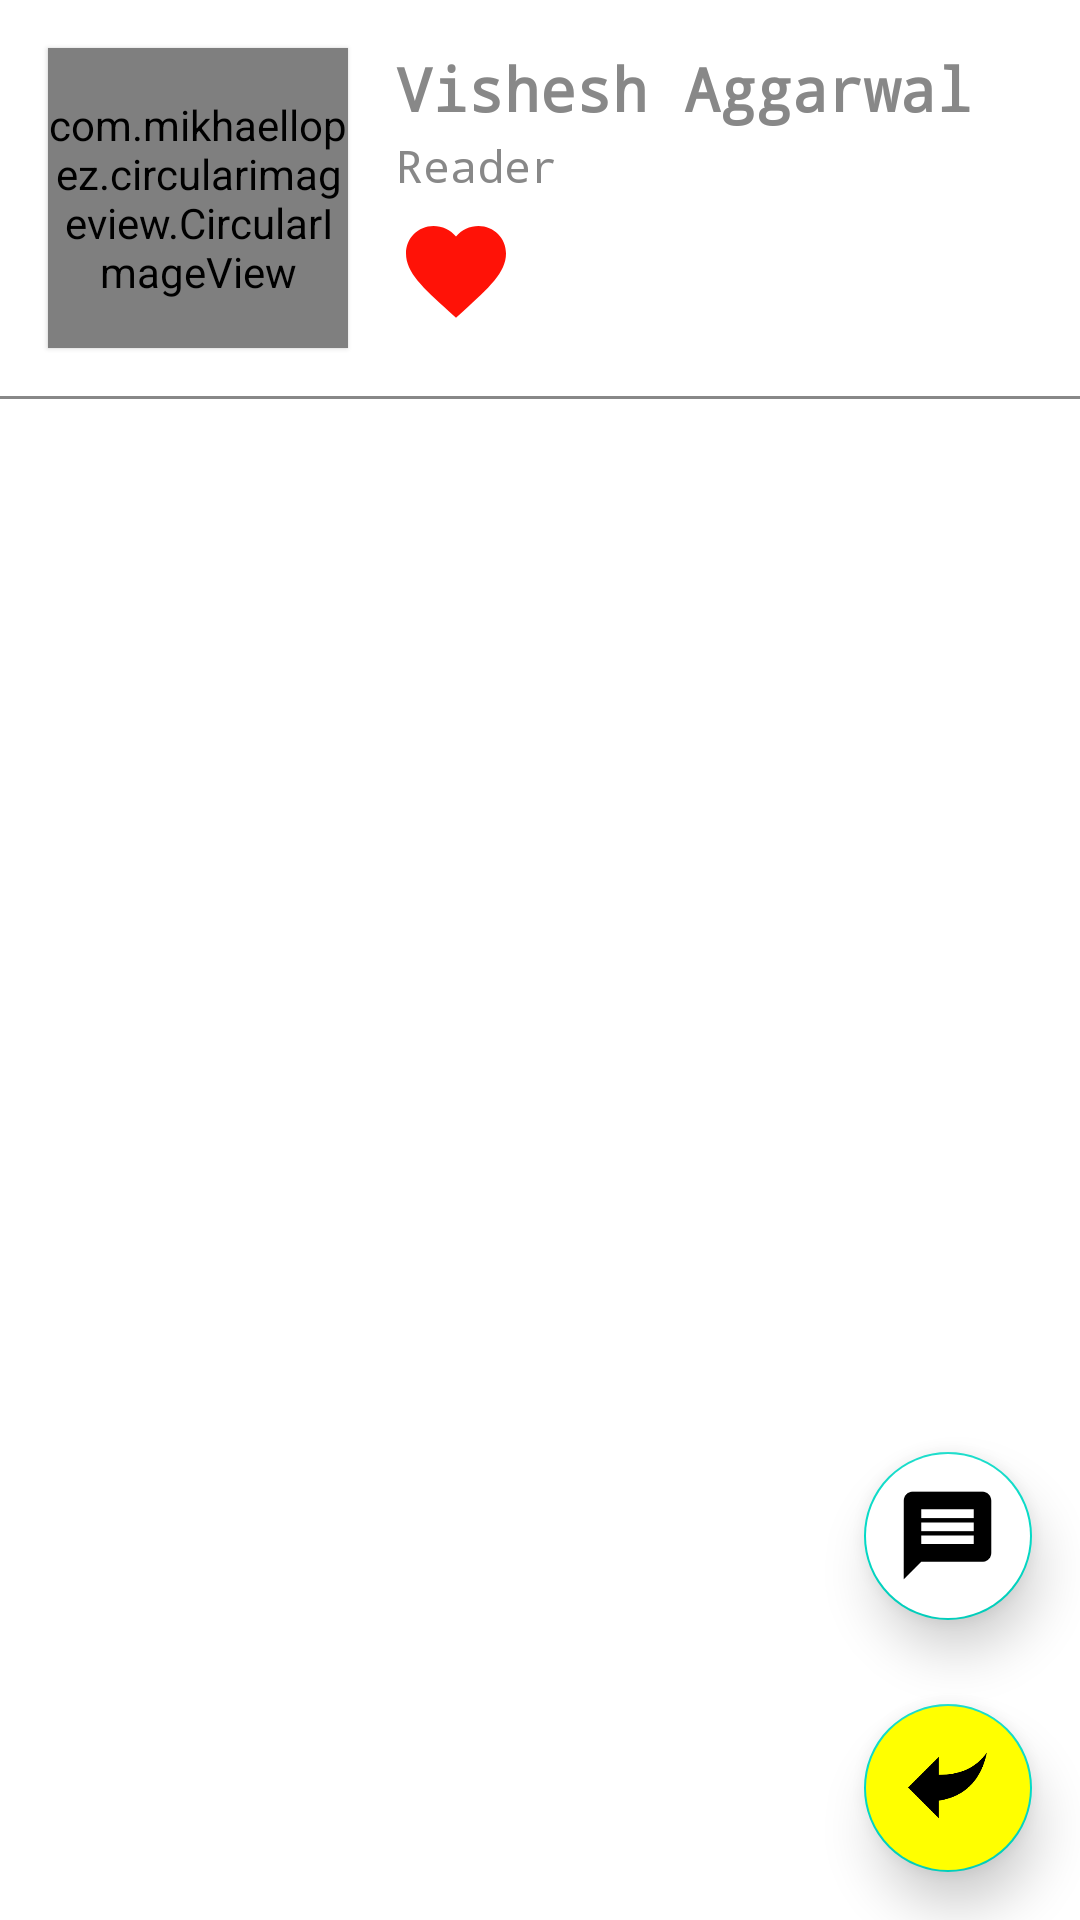

Screen size 1080 x 1920. Icon name, then its center in pixels as point (x, y):
back: point (948, 1788)
favorite: point (456, 272)
message: point (947, 1535)
